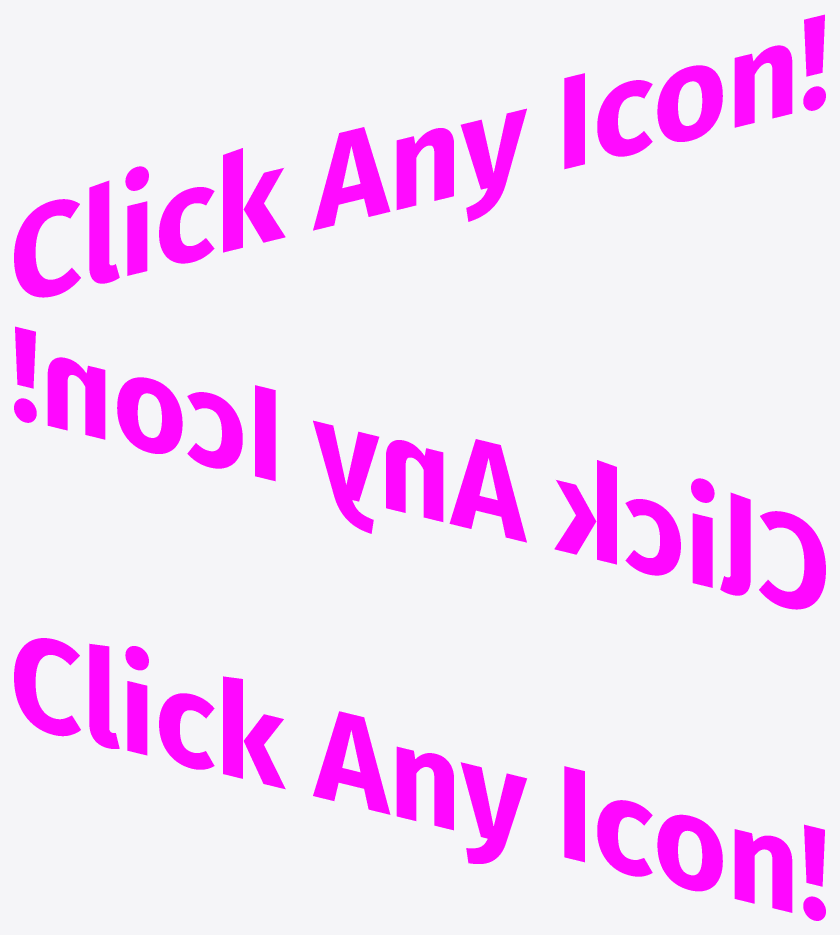
File: ClickAnyIcon.glb
3 views of the same model, one above another, from view 1: azimuth 30°, elevation 25°; view 2: azimuth 150°, elevation 25°; view 3: azimuth 330°, elevation 25° (orthographic).
Parts seen in each view (by area): view 1: Text.001; view 2: Text.001; view 3: Text.001.
Boxes of the visible parts, x1,y1,x2,y2 form: Text.001: (14, 14, 825, 297); Text.001: (14, 326, 825, 609); Text.001: (14, 638, 825, 920).
Size of the model in its own units: 30.35 by 4.86 by 1.64e-06.
